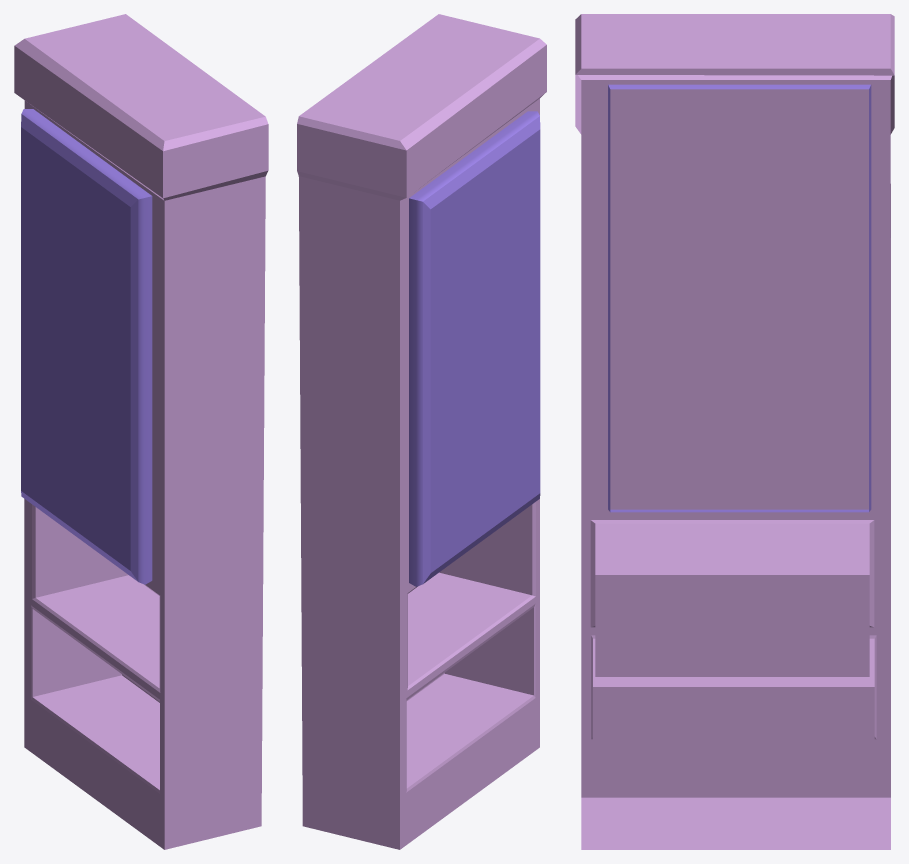
The model's file is Friday_House_KitchenShelf.fbx.
3 renders of one model, left to right at view 1: azimuth 30°, elevation 25°; view 2: azimuth 150°, elevation 25°; view 3: azimuth 270°, elevation 25°, orthographic. The views are drawn at different scales.
Parts seen in each view (by area): view 1: Kitchenette_Kitchenette1, Cabinets; view 2: Kitchenette_Kitchenette1, Cabinets; view 3: Kitchenette_Kitchenette1, Cabinets.
Part boxes in pixels (box(x1,y1,x2,y2)): Kitchenette_Kitchenette1: box(14, 14, 268, 849); Cabinets: box(21, 109, 152, 584); Kitchenette_Kitchenette1: box(297, 14, 546, 849); Cabinets: box(409, 111, 540, 586); Kitchenette_Kitchenette1: box(575, 14, 894, 849); Cabinets: box(608, 84, 871, 512).
Size of the model in its own units: 92.62 by 530 by 196.
